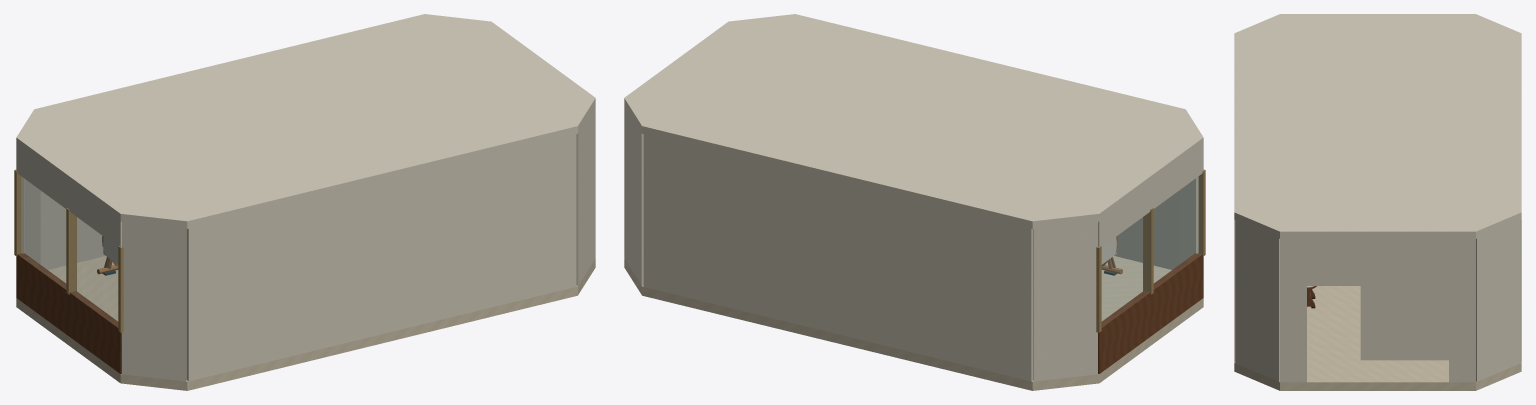
The model's file is D04_PORT_CENTRAL_HOME_983_r001.glb.
3 renders of one model, left to right at view 1: azimuth 30°, elevation 25°; view 2: azimuth 150°, elevation 25°; view 3: azimuth 270°, elevation 25°, orthographic. The views are drawn at different scales.
Parts seen in each view (by area): view 1: PC983_D04H982_Roof, PC983_D04H982_Shell_3, PC983_D04H982_Shell_2, PC983_D04H982_Floor, PC983_D04H982_GardenGlass, PC983_D04H982_GardenDado, PC983_D04H982_Shell_4, PC983_D04H982_GardenHead, PC983_D04H982_Shell_7, PC983_D04H982_Shell_0, PC983_D04H982_WindowMullion_1, PC983_D04H982_WindowMullion_0 (+1 smaller); view 2: PC983_D04H982_Roof, PC983_D04H982_Shell_7, PC983_D04H982_Shell_0, PC983_D04H982_Floor, PC983_D04H982_GardenGlass, PC983_D04H982_GardenDado, PC983_D04H982_Shell_6, PC983_D04H982_GardenHead, PC983_D04H982_Shell_3, PC983_D04H982_Shell_2, PC983_D04H982_WindowMullion_1, PC983_D04H982_WindowMullion_2 (+1 smaller); view 3: PC983_D04H982_Roof, PC983_D04H982_Floor, PC983_D04H982_EntryHeader, PC983_D04H982_Shell_4, PC983_D04H982_Shell_6, PC983_D04H982_BathDogleg, PC983_D04H982_EntryWall_0, PC983_D04H982_EntryWall_1, PC983_D04H982_BathScreen, PC983_D04H982_Shell_3, PC983_D04H982_Shell_7.
Boxes of the visible parts, x1,y1,x2,y2 form: PC983_D04H982_Roof: (16,14,595,228); PC983_D04H982_Shell_3: (186,134,576,381); PC983_D04H982_Shell_2: (122,221,186,381); PC983_D04H982_Floor: (16,256,595,390); PC983_D04H982_GardenGlass: (18,179,117,325); PC983_D04H982_GardenDado: (16,253,121,373); PC983_D04H982_Shell_4: (576,107,595,285); PC983_D04H982_GardenHead: (16,145,121,246); PC983_D04H982_Shell_7: (40,191,105,269); PC983_D04H982_Shell_0: (21,176,40,264); PC983_D04H982_WindowMullion_1: (66,208,76,294); PC983_D04H982_WindowMullion_0: (14,169,21,256); PC983_D04H982_Roof: (624,14,1203,228); PC983_D04H982_Shell_7: (643,134,1033,381); PC983_D04H982_Shell_0: (1033,221,1097,381); PC983_D04H982_Floor: (624,256,1203,390); PC983_D04H982_GardenGlass: (1102,179,1195,326); PC983_D04H982_GardenDado: (1098,253,1203,373); PC983_D04H982_Shell_6: (624,107,643,285); PC983_D04H982_GardenHead: (1098,145,1203,246); PC983_D04H982_Shell_3: (1114,191,1179,269); PC983_D04H982_Shell_2: (1179,176,1198,264); PC983_D04H982_WindowMullion_1: (1143,208,1153,294); PC983_D04H982_WindowMullion_2: (1198,169,1205,256); PC983_D04H982_Roof: (1234,14,1521,238); PC983_D04H982_Floor: (1234,286,1521,390); PC983_D04H982_EntryHeader: (1307,239,1448,285); PC983_D04H982_Shell_4: (1235,220,1279,381); PC983_D04H982_Shell_6: (1476,220,1520,381); PC983_D04H982_BathDogleg: (1360,286,1448,360); PC983_D04H982_EntryWall_0: (1449,239,1475,382); PC983_D04H982_EntryWall_1: (1280,239,1306,382); PC983_D04H982_BathScreen: (1360,286,1367,360); PC983_D04H982_Shell_3: (1234,219,1235,362); PC983_D04H982_Shell_7: (1520,219,1521,362).
Bounding box in the file's own units: 12.92 × 4.4 × 7.2.
Materials: 45 (21 with a texture image).
